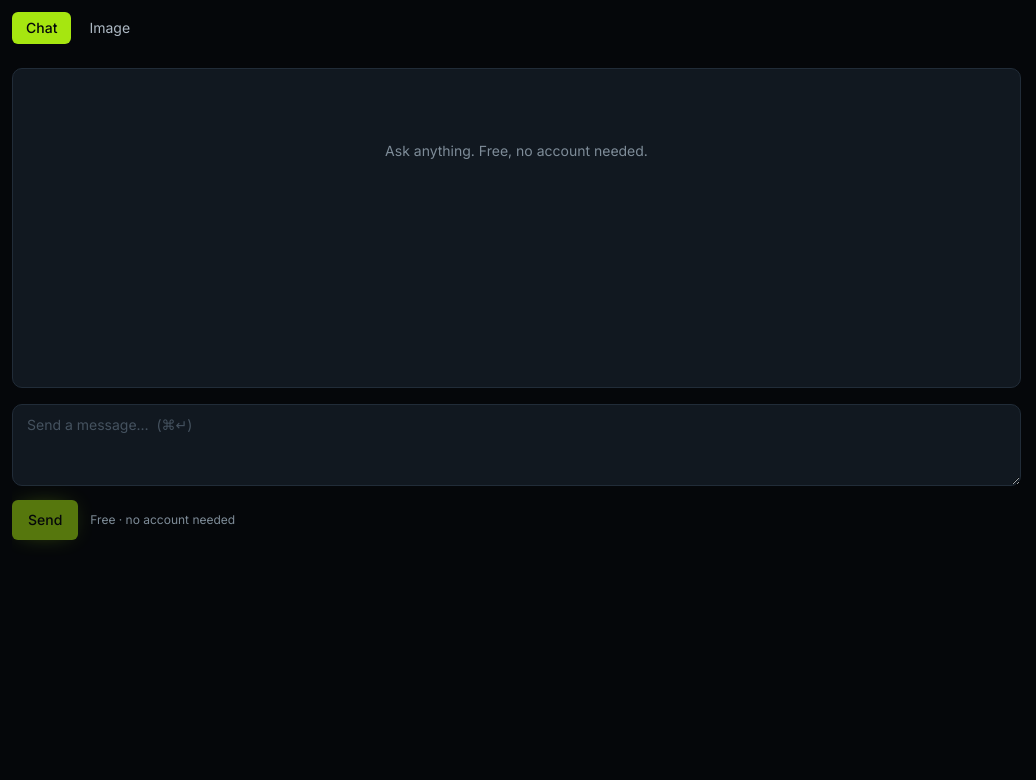
Test case: chat is open to anyone › sends a message with no wallet and no account
The image size is (1036, 780).
Type "hi" into the text box named "Prompt". click: coordinates (516, 445)
box: [12,404,1021,486]
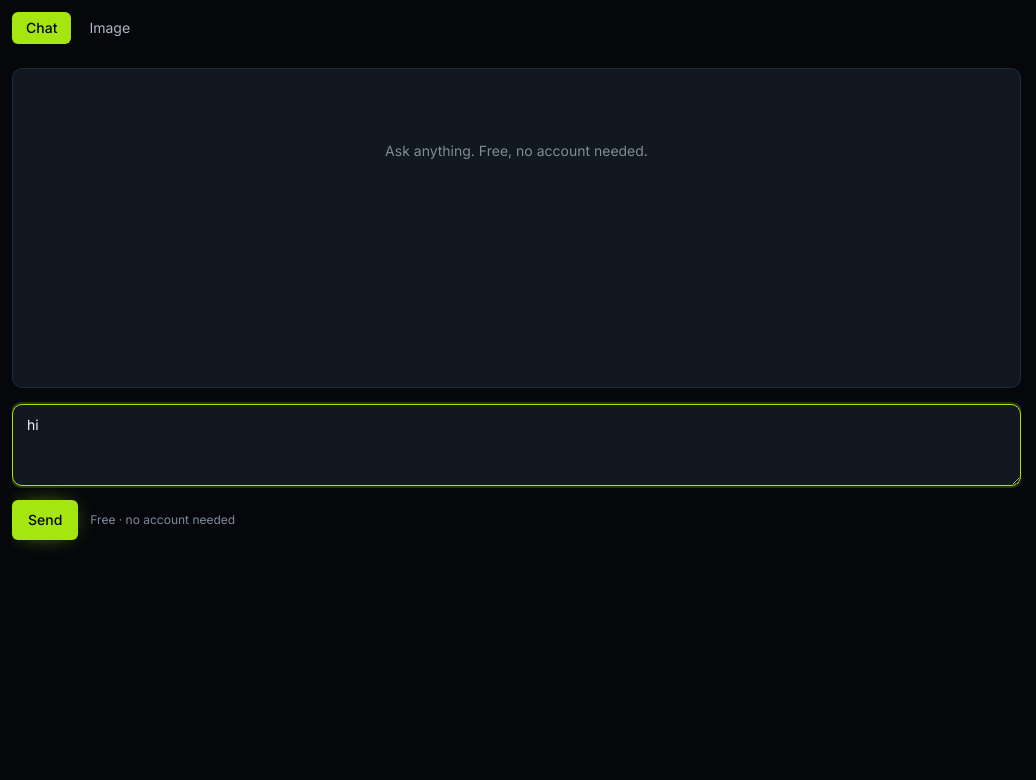
Click the button "Send". click: coordinates (45, 520)
box: [12,500,78,540]
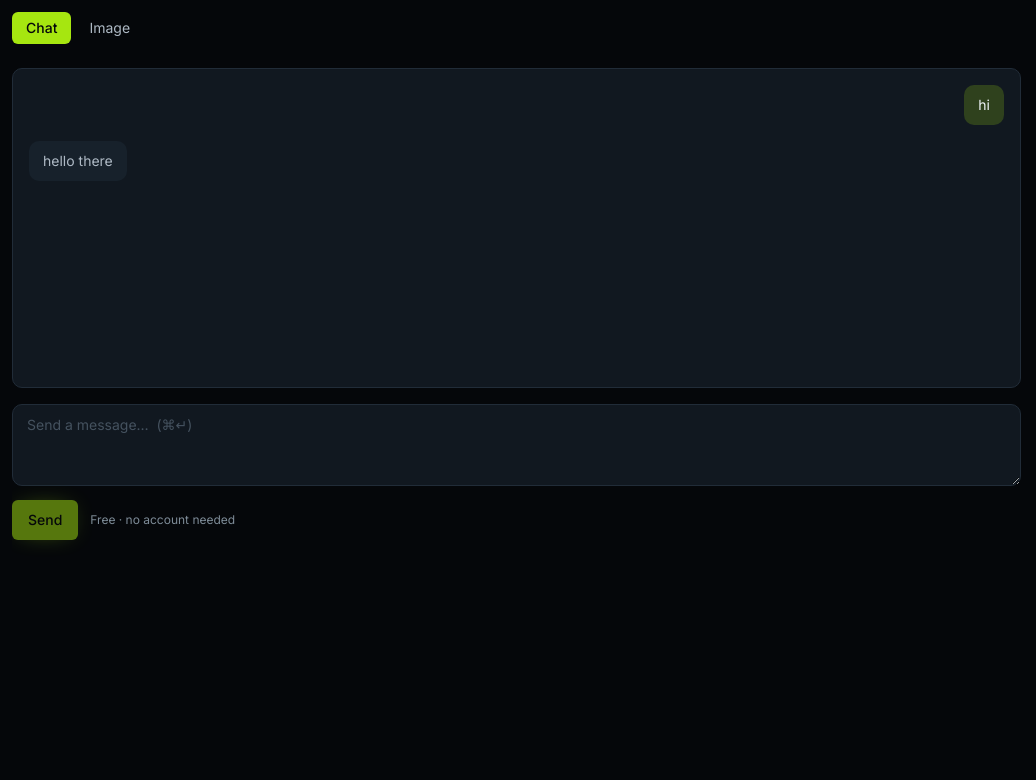
Expected: the text "hello there" is shown, [29,141,127,181]
